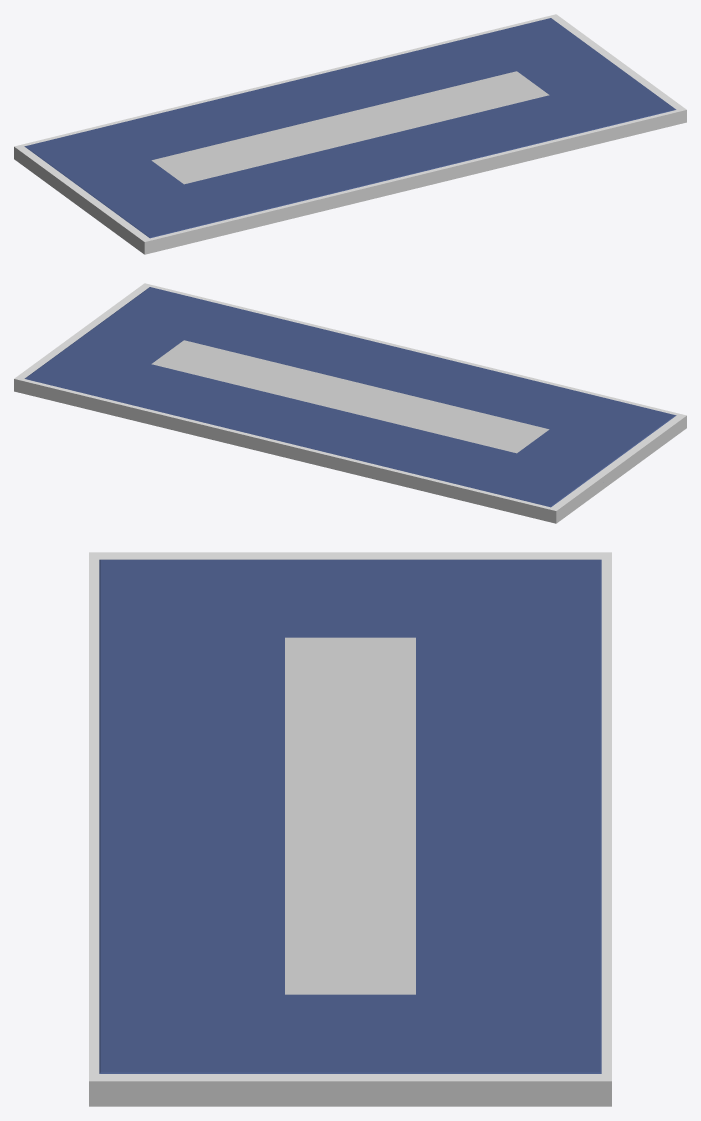
The model's file is carpet-B-01.glb.
The picture shows the model from 3 angles, top to bottom: view 1: azimuth 30°, elevation 25°; view 2: azimuth 150°, elevation 25°; view 3: azimuth 270°, elevation 25°; orthographic projection. The views are drawn at different scales.
Visible parts, largest first — view 1: Carpet B, Carpet B_col; view 2: Carpet B, Carpet B_col; view 3: Carpet B, Carpet B_col.
Part boxes in pixels (x1,y1,x2,y2): Carpet B: (24,18,676,238); Carpet B_col: (14,14,686,254); Carpet B: (24,287,676,507); Carpet B_col: (14,283,686,523); Carpet B: (99,559,601,1073); Carpet B_col: (89,552,611,1106).
Bounding box in the file's own units: 11.7 × 0.2685 × 4.88.
